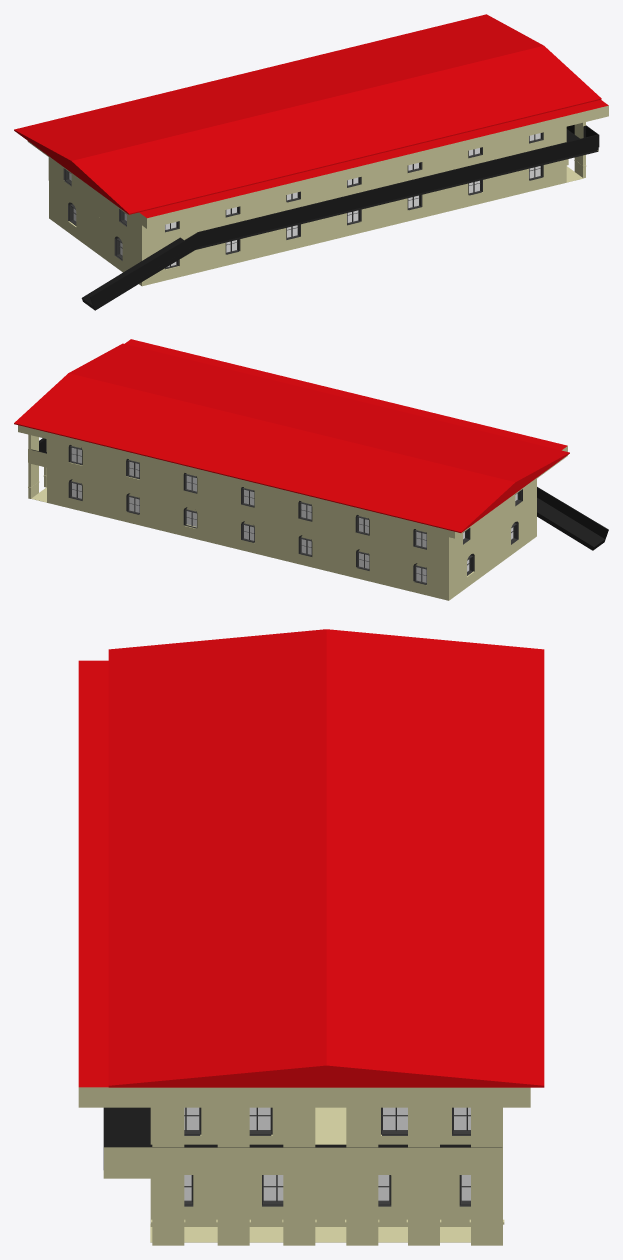
File: ictc.fbx
3 renders of one model, top to bottom at view 1: azimuth 30°, elevation 25°; view 2: azimuth 150°, elevation 25°; view 3: azimuth 270°, elevation 25°, orthographic. The views are drawn at different scales.
Visible parts, largest first — view 1: building_002.003; view 2: building_002.003; view 3: building_002.003.
Part boxes in pixels (<box>): building_002.003: <box>14,14,608,310</box>; building_002.003: <box>14,339,608,600</box>; building_002.003: <box>78,629,544,1245</box>.
Size of the model in its own units: 14302 by 2614 by 5946.
